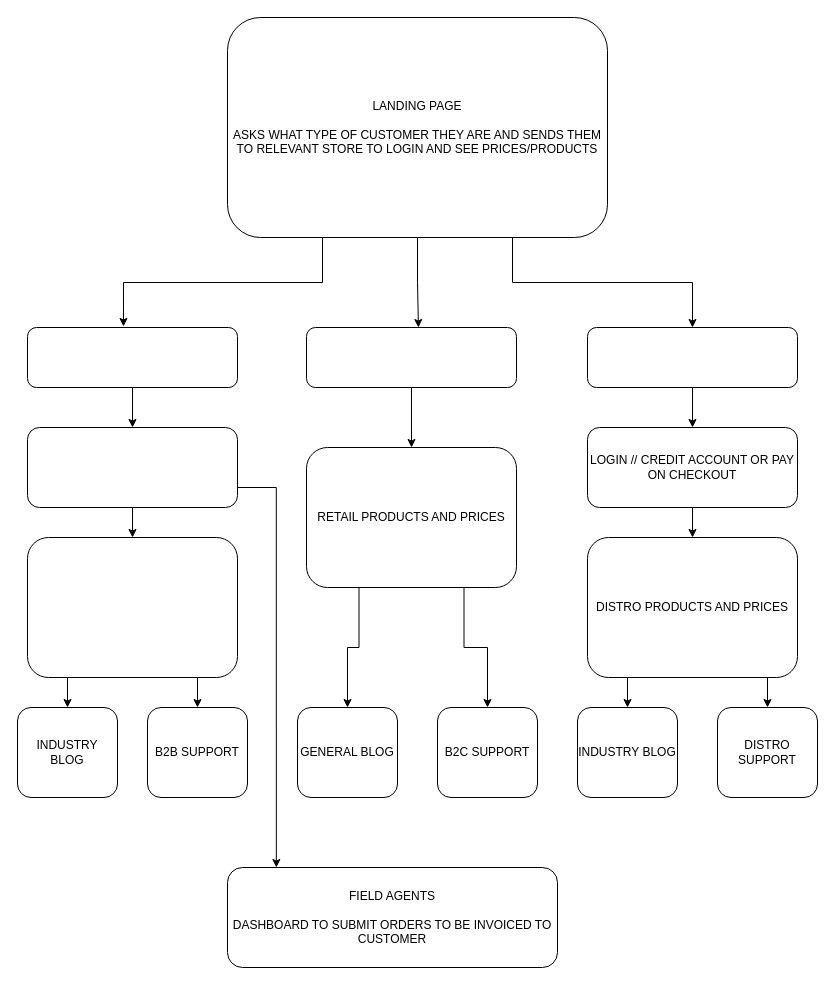
The diagram is 835 pixels wide and 985 high, and some of its shapes have lost their labels. The box of each missing label's shape, as (x1, y1, x2, y2) in pixels:
B2B PRODUCTS AND PRICES: (26, 536, 238, 678)
B2B.KILLIS.CO.UK: (26, 326, 238, 388)
DISTRO.KILLIS.CO.UK: (586, 326, 798, 388)
LOGIN // CREDIT ACCOUNT, PAY ON CHECKOUT OR AGENT: (26, 426, 238, 508)
RETAIL.KILLIS.CO.UK: (306, 326, 516, 388)
